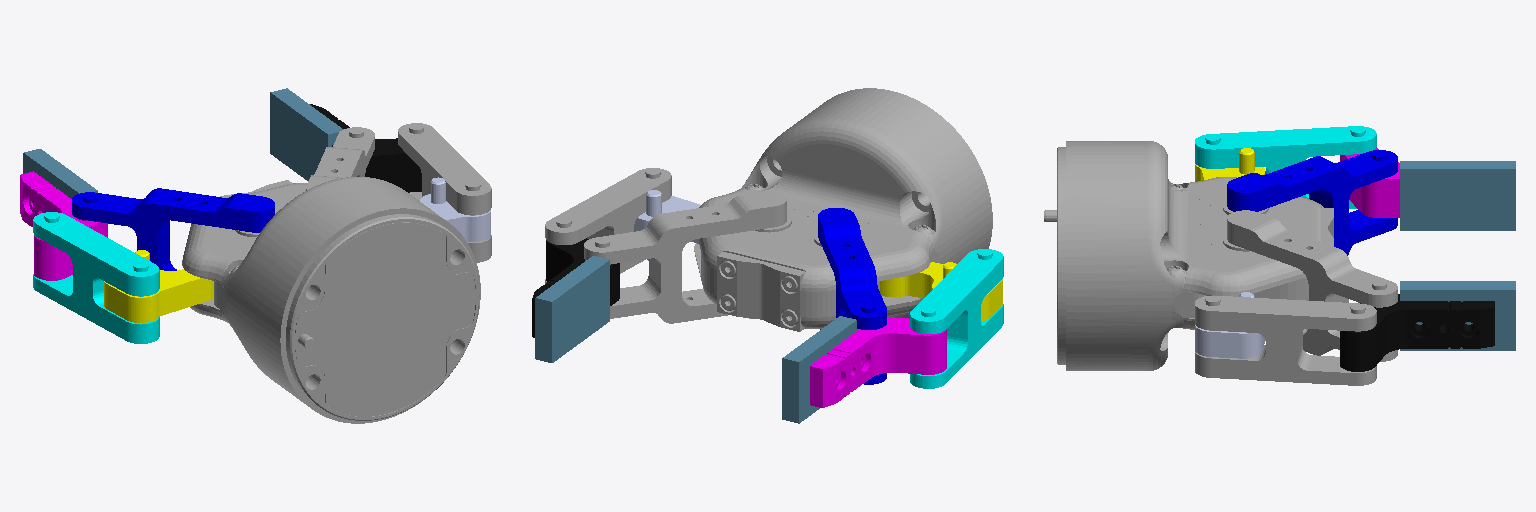
URDF robot description (ur5_robotiq_85):
<?xml version="1.0" ?>
<!-- =================================================================================== -->
<!-- |    This document was autogenerated by xacro from sisbot.xacro                   | -->
<!-- |    EDITING THIS FILE BY HAND IS NOT RECOMMENDED                                 | -->
<!-- =================================================================================== -->
<robot name="ur5_robotiq_85" xmlns:xacro="http://ros.org/wiki/xacro">
  <!--################################################
  ########              arm                    #######
  ####################################################-->

  <link name="base_link">
    <visual>
      <geometry>
        <mesh filename="../meshes/ur5/visual/base.obj"/>
      </geometry>
      <material name="LightGrey">
        <color rgba="0.7 0.7 0.7 1.0"/>
      </material>
    </visual>
    <collision>
      <geometry>
        <mesh filename="../meshes/ur5/collision/base.stl"/>
      </geometry>
    </collision>
    <inertial>
      <mass value="4.0"/>
      <origin rpy="0 0 0" xyz="0.0 0.0 0.0"/>
      <inertia ixx="0.00443333156" ixy="0.0" ixz="0.0" iyy="0.00443333156" iyz="0.0" izz="0.0072"/>
    </inertial>
  </link>

  <joint name="shoulder_pan_joint" type="revolute">
    <parent link="base_link"/>
    <child link="shoulder_link"/>
    <origin rpy="0.0 0.0 0.0" xyz="0.0 0.0 0.089159"/>
    <axis xyz="0 0 1"/>
    <limit effort="150.0" lower="-3.14159265359" upper="3.14159265359" velocity="3.15"/>
    <dynamics damping="0.0" friction="0.0"/>
  </joint>
  <link name="shoulder_link">
    <visual>
      <geometry>
        <mesh filename="../meshes/ur5/visual/shoulder.obj"/>
      </geometry>
      <material name="UR-Blue">
        <color rgba="0.376 0.576 0.674 1.0"/>
      </material>
    </visual>
    <collision>
      <geometry>
        <mesh filename="../meshes/ur5/collision/shoulder.stl"/>
      </geometry>
    </collision>
    <inertial>
      <mass value="3.7"/>
      <origin rpy="0 0 0" xyz="0.0 0.0 0.0"/>
      <inertia ixx="0.010267495893" ixy="0.0" ixz="0.0" iyy="0.010267495893" iyz="0.0" izz="0.00666"/>
    </inertial>
  </link>
  <joint name="shoulder_lift_joint" type="revolute">
    <parent link="shoulder_link"/>
    <child link="upper_arm_link"/>
    <origin rpy="0.0 1.57079632679 0.0" xyz="0.0 0.13585 0.0"/>
    <axis xyz="0 1 0"/>
    <limit effort="150.0" lower="-3.14159265359" upper="3.14159265359" velocity="3.15"/>
    <dynamics damping="0.0" friction="0.0"/>
  </joint>
  <link name="upper_arm_link">
    <visual>
      <geometry>
        <mesh filename="../meshes/ur5/visual/upperarm.obj"/>
      </geometry>
      <material name="LightGrey">
        <color rgba="0.7 0.7 0.7 1.0"/>
      </material>
    </visual>
    <collision>
      <geometry>
        <mesh filename="../meshes/ur5/collision/upperarm.stl"/>
      </geometry>
    </collision>
    <inertial>
      <mass value="8.393"/>
      <origin rpy="0 0 0" xyz="0.0 0.0 0.28"/>
      <inertia ixx="0.22689067591" ixy="0.0" ixz="0.0" iyy="0.22689067591" iyz="0.0" izz="0.0151074"/>
    </inertial>
  </link>
  <joint name="elbow_joint" type="revolute">
    <parent link="upper_arm_link"/>
    <child link="forearm_link"/>
    <origin rpy="0.0 0.0 0.0" xyz="0.0 -0.1197 0.425"/>
    <axis xyz="0 1 0"/>
    <limit effort="150.0" lower="-3.14159265359" upper="3.14159265359" velocity="3.15"/>
    <dynamics damping="0.0" friction="0.0"/>
  </joint>
  <link name="forearm_link">
    <visual>
      <geometry>
        <mesh filename="../meshes/ur5/visual/forearm.obj"/>
      </geometry>
      <material name="LightGrey">
        <color rgba="0.7 0.7 0.7 1.0"/>
      </material>
    </visual>
    <collision>
      <geometry>
        <mesh filename="../meshes/ur5/collision/forearm.stl"/>
      </geometry>
    </collision>
    <inertial>
      <mass value="2.275"/>
      <origin rpy="0 0 0" xyz="0.0 0.0 0.25"/>
      <inertia ixx="0.049443313556" ixy="0.0" ixz="0.0" iyy="0.049443313556" iyz="0.0" izz="0.004095"/>
    </inertial>
  </link>
  <joint name="wrist_1_joint" type="revolute">
    <parent link="forearm_link"/>
    <child link="wrist_1_link"/>
    <origin rpy="0.0 1.57079632679 0.0" xyz="0.0 0.0 0.39225"/>
    <axis xyz="0 1 0"/>
    <limit effort="28.0" lower="-3.14159265359" upper="3.14159265359" velocity="3.2"/>
    <dynamics damping="0.0" friction="0.0"/>
  </joint>
  <link name="wrist_1_link">
    <visual>
      <geometry>
        <mesh filename="../meshes/ur5/visual/wrist1.obj"/>
      </geometry>
      <material name="UR-Blue">
        <color rgba="0.376 0.576 0.674 1.0"/>
      </material>
    </visual>
    <collision>
      <geometry>
        <mesh filename="../meshes/ur5/collision/wrist1.stl"/>
      </geometry>
    </collision>
    <inertial>
      <mass value="1.219"/>
      <origin rpy="0 0 0" xyz="0.0 0.0 0.0"/>
      <inertia ixx="0.111172755531" ixy="0.0" ixz="0.0" iyy="0.111172755531" iyz="0.0" izz="0.21942"/>
    </inertial>
  </link>
  <joint name="wrist_2_joint" type="revolute">
    <parent link="wrist_1_link"/>
    <child link="wrist_2_link"/>
    <origin rpy="0.0 0.0 0.0" xyz="0.0 0.093 0.0"/>
    <axis xyz="0 0 1"/>
    <limit effort="28.0" lower="-3.14159265359" upper="3.14159265359" velocity="3.2"/>
    <dynamics damping="0.0" friction="0.0"/>
  </joint>
  <link name="wrist_2_link">
    <visual>
      <geometry>
        <mesh filename="../meshes/ur5/visual/wrist2.obj"/>
      </geometry>
      <material name="DarkGray">
        <color rgba="0.5 0.5 0.5 1.0"/>
      </material>
    </visual>
    <collision>
      <geometry>
        <mesh filename="../meshes/ur5/collision/wrist2.stl"/>
      </geometry>
    </collision>
    <inertial>
      <mass value="1.219"/>
      <origin rpy="0 0 0" xyz="0.0 0.0 0.0"/>
      <inertia ixx="0.111172755531" ixy="0.0" ixz="0.0" iyy="0.111172755531" iyz="0.0" izz="0.21942"/>
    </inertial>
  </link>
  <joint name="wrist_3_joint" type="revolute">
    <parent link="wrist_2_link"/>
    <child link="wrist_3_link"/>
    <origin rpy="0.0 0.0 0.0" xyz="0.0 0.0 0.09465"/>
    <axis xyz="0 1 0"/>
    <limit effort="28.0" lower="-3.14159265359" upper="3.14159265359" velocity="3.2"/>
    <dynamics damping="0.0" friction="0.0"/>
  </joint>
  <link name="wrist_3_link">
    <visual>
      <geometry>
        <mesh filename="../meshes/ur5/visual/wrist3.obj"/>
      </geometry>
      <material name="LightGrey">
        <color rgba="0.7 0.7 0.7 1.0"/>
      </material>
    </visual>
    <collision>
      <geometry>
        <mesh filename="../meshes/ur5/collision/wrist3.stl"/>
      </geometry>
    </collision>
    <inertial>
      <mass value="0.1879"/>
      <origin rpy="0 0 0" xyz="0.0 0.0 0.0"/>
      <inertia ixx="0.0171364731454" ixy="0.0" ixz="0.0" iyy="0.0171364731454" iyz="0.0" izz="0.033822"/>
    </inertial>
  </link>
  <joint name="ee_fixed_joint" type="fixed">
    <parent link="wrist_3_link"/>
    <child link="ee_link"/>
    <origin rpy="0.0 0.0 1.57079632679" xyz="0.0 0.0823 0.0"/>
  </joint>
  <link name="ee_link">
    <collision>
      <geometry>
        <box size="0.01 0.01 0.01"/>
      </geometry>
      <origin rpy="0 0 0" xyz="-0.01 0 0"/>
    </collision>
  </link>

  <!--################################################
  ########              gripper                  #####
  ####################################################-->

  <link name="robotiq_arg2f_base_link">
    <inertial>
      <origin rpy="0 0 0" xyz="8.625E-08 -4.6583E-06 0.03145"/>
      <mass value="0.22652"/>
      <inertia ixx="0.00020005" ixy="-4.2442E-10" ixz="-2.9069E-10" iyy="0.00017832" iyz="-3.4402E-08" izz="0.00013478"/>
    </inertial>
    <visual>
      <origin rpy="0 0 0" xyz="0 0 0"/>
      <geometry>
        <mesh filename="../meshes/robotiq_85/visual/robotiq_arg2f_85_base_link.obj"/>
      </geometry>
      <material name="LightGrey">
        <color rgba="0.7 0.7 0.7 1.0"/>
      </material>
    </visual>
    <collision>
      <origin rpy="0 0 0" xyz="0 0 0"/>
      <geometry>
        <mesh filename="../meshes/robotiq_85/collision/robotiq_arg2f_base_link.stl"/>
      </geometry>
    </collision>
  </link>
  <joint name="finger_joint" type="revolute">
    <origin rpy="0 0 3.14159265359" xyz="0 -0.0306011 0.054904"/>
    <parent link="robotiq_arg2f_base_link"/>
    <child link="left_outer_knuckle"/>
    <axis xyz="1 0 0"/>
    <limit effort="1000" lower="0" upper="0.8" velocity="2.0"/>
  </joint>
  <link name="left_outer_knuckle">
    <inertial>
        <origin xyz="-0.000200000000003065 0.0199435877845359 0.0292245259211331" rpy="0 0 0" />
        <mass value="0.00853198276973456" />
        <inertia ixx="2.89328108496468E-06" ixy="-1.57935047237397E-19" ixz="-1.93980378593255E-19" iyy="1.86719750325683E-06" iyz="-1.21858577871576E-06" izz="1.21905238907251E-06" />
        </inertial>
    <visual>
      <origin rpy="0 0 0" xyz="0 0 0"/>
      <geometry>
        <mesh filename="../meshes/robotiq_85/visual/robotiq_arg2f_85_outer_knuckle.obj"/>
      </geometry>
      <material name="">
        <color rgba="1 1 0 1"/>
      </material>
    </visual>
    <collision>
      <origin rpy="0 0 0" xyz="0 0 0"/>
      <geometry>
        <mesh filename="../meshes/robotiq_85/collision/robotiq_arg2f_85_outer_knuckle.obj"/>
      </geometry>
    </collision>
  </link>
  <joint name="left_outer_finger_joint" type="fixed">
    <origin rpy="0 0 0" xyz="0 0.0315 -0.0041"/>
    <parent link="left_outer_knuckle"/>
    <child link="left_outer_finger"/>
    <axis xyz="1 0 0"/>
  </joint>
  <link name="left_outer_finger">
    <inertial>
        <origin xyz="0.00030115855001899 0.0373907951953854 -0.0208027427000385" rpy="0 0 0" />
        <mass value="0.022614240507152" />
        <inertia ixx="1.52518312458174E-05" ixy="9.76583423954399E-10" ixz="-5.43838577022588E-10" iyy="6.17694243867776E-06" iyz="6.78636130740228E-06" izz="1.16494917907219E-05" />
        </inertial>
    <visual>
      <origin rpy="0 0 0" xyz="0 0 0"/>
      <geometry>
        <mesh filename="../meshes/robotiq_85/visual/robotiq_arg2f_85_outer_finger.obj"/>
      </geometry>
      <material name="LightGrey">
        <color rgba="0 1 1 1.0"/>
      </material>
    </visual>
    <collision>
      <origin rpy="0 0 0" xyz="0 0 0"/>
      <geometry>
        <mesh filename="../meshes/robotiq_85/collision/robotiq_arg2f_85_outer_finger.obj"/>
      </geometry>
    </collision>
  </link>
  <joint name="left_inner_finger_joint" type="revolute">
    <origin rpy="0 0 0" xyz="0 0.0061 0.0471"/>
    <parent link="left_outer_finger"/>
    <child link="left_inner_finger"/>
    <axis xyz="1 0 0"/>
    <limit effort="1000" lower="-0.8757" upper="0" velocity="2.0"/>
    <mimic joint="finger_joint" multiplier="-1" offset="0"/>
  </joint>
  <link name="left_inner_finger">
    <inertial>
        <origin xyz="0.000299999999999317 0.0160078233491243 -0.0136945669206257" rpy="0 0 0" />
        <mass value="0.0104003125914103" />
        <inertia ixx="2.71909453810972E-06" ixy="1.35402465472579E-21" ixz="-7.1817349065269E-22" iyy="7.69100314106116E-07" iyz="6.74715432769696E-07" izz="2.30315190420171E-06" />
        </inertial>
    <visual>
      <origin rpy="0 0 0" xyz="0 0 0"/>
      <geometry>
        <mesh filename="../meshes/robotiq_85/visual/robotiq_arg2f_85_inner_finger.obj"/>
      </geometry>
      <material name="LightGrey">
        <color rgba="1 0 1 1.0"/>
      </material>
    </visual>
    <collision>
      <origin rpy="0 0 0" xyz="0 0 0"/>
      <geometry>
        <mesh filename="../meshes/robotiq_85/collision/robotiq_arg2f_85_inner_finger.obj"/>
      </geometry>
    </collision>
  </link>
  <joint name="left_inner_finger_pad_joint" type="fixed">
    <origin rpy="0 0 0" xyz="0 -0.0220203446692936 0.03242"/>
    <parent link="left_inner_finger"/>
    <child link="left_inner_finger_pad"/>
    <axis xyz="0 0 1"/>
  </joint>
  <link name="left_inner_finger_pad">
    <inertial>
      <mass value="1."/>
      <inertia ixx="1E-10" ixy="1E-10" ixz="1E-10" iyy="1E-10" iyz="1E-10" izz="1E-10"/>
    </inertial>
    <visual>
      <origin rpy="0 0 0" xyz="0 0 0"/>
      <geometry>
        <box size="0.022 0.00635 0.0375"/>
      </geometry>
      <material name="UR-Blue">
        <color rgba="0.376 0.576 0.674 1.0"/>
      </material>
    </visual>
    <collision>
      <origin rpy="0 0 0" xyz="0 0 0"/>
      <geometry>
        <box size="0.022 0.00635 0.0375"/>
      </geometry>
      <material name="">
        <color rgba="0.9 0.0 0.0 1"/>
      </material>
    </collision>
  </link>
  <joint name="left_inner_knuckle_joint" type="revolute">
    <!-- <origin xyz="0 ${reflect * -0.0127} 0.06142" rpy="${pi / 2 + .725} 0 ${(reflect - 1) * pi / 2}" /> -->
    <origin rpy="0 0 3.14159265359" xyz="0 -0.0127 0.06142"/>
    <parent link="robotiq_arg2f_base_link"/>
    <child link="left_inner_knuckle"/>
    <axis xyz="1 0 0"/>
    <limit effort="1000" lower="0" upper="0.8757" velocity="2.0"/>
    <mimic joint="finger_joint" multiplier="1" offset="0"/>
  </joint>
  <link name="left_inner_knuckle">
    <inertial>
        <origin xyz="0.000123011831763771 0.0507850843201817 0.00103968640075166" rpy="0 0 0" />
       <mass value="0.0271177346495152" />
        <inertia ixx="2.61910379223783E-05" ixy="-2.43616858946494E-07" ixz="-6.37789906117123E-09" iyy="2.8270243746167E-06" iyz="-5.37200748039765E-07" izz="2.83695868220296E-05" />
        </inertial>
    <visual>
      <origin rpy="0 0 0" xyz="0 0 0"/>
      <geometry>
        <mesh filename="../meshes/robotiq_85/visual/robotiq_arg2f_85_inner_knuckle.obj"/>
      </geometry>
      <material name="LightGrey">
        <color rgba="0 0 1 1.0"/>
      </material>
    </visual>
    <collision>
      <origin rpy="0 0 0" xyz="0 0 0"/>
      <geometry>
        <mesh filename="../meshes/robotiq_85/collision/robotiq_arg2f_85_inner_knuckle.obj"/>
      </geometry>
    </collision>
  </link>
  <joint name="right_outer_knuckle_joint" type="revolute">
    <origin rpy="0 0 0" xyz="0 0.0306011 0.054904"/>
    <parent link="robotiq_arg2f_base_link"/>
    <child link="right_outer_knuckle"/>
    <axis xyz="1 0 0"/>
    <limit effort="1000" lower="0" upper="0.81" velocity="2.0"/>
    <mimic joint="finger_joint" multiplier="1" offset="0"/>
  </joint>
  <link name="right_outer_knuckle">
    <inertial>
        <origin xyz="-0.000200000000003065 0.0199435877845359 0.0292245259211331" rpy="0 0 0" />
        <mass value="0.00853198276973456" />
        <inertia ixx="2.89328108496468E-06" ixy="-1.57935047237397E-19" ixz="-1.93980378593255E-19" iyy="1.86719750325683E-06" iyz="-1.21858577871576E-06" izz="1.21905238907251E-06" />
        </inertial>
    <visual>
      <origin rpy="0 0 0" xyz="0 0 0"/>
      <geometry>
        <mesh filename="../meshes/robotiq_85/visual/robotiq_arg2f_85_outer_knuckle.obj"/>
      </geometry>
      <material name="">
        <color rgba="0.792156862745098 0.819607843137255 0.933333333333333 1"/>
      </material>
    </visual>
    <collision>
      <origin rpy="0 0 0" xyz="0 0 0"/>
      <geometry>
        <mesh filename="../meshes/robotiq_85/collision/robotiq_arg2f_85_outer_knuckle.obj"/>
      </geometry>
    </collision>
  </link>
  <joint name="right_outer_finger_joint" type="fixed">
    <origin rpy="0 0 0" xyz="0 0.0315 -0.0041"/>
    <parent link="right_outer_knuckle"/>
    <child link="right_outer_finger"/>
    <axis xyz="1 0 0"/>
  </joint>
  <link name="right_outer_finger">
    <inertial>
        <origin xyz="0.00030115855001899 0.0373907951953854 -0.0208027427000385" rpy="0 0 0" />
        <mass value="0.022614240507152" />
        <inertia ixx="1.52518312458174E-05" ixy="9.76583423954399E-10" ixz="-5.43838577022588E-10" iyy="6.17694243867776E-06" iyz="6.78636130740228E-06" izz="1.16494917907219E-05" />
        </inertial>
    <visual>
      <origin rpy="0 0 0" xyz="0 0 0"/>
      <geometry>
        <mesh filename="../meshes/robotiq_85/visual/robotiq_arg2f_85_outer_finger.obj"/>
      </geometry>
      <material name="LightGrey">
        <color rgba="0.7 0.7 0.7 1.0"/>
      </material>
    </visual>
    <collision>
      <origin rpy="0 0 0" xyz="0 0 0"/>
      <geometry>
        <mesh filename="../meshes/robotiq_85/collision/robotiq_arg2f_85_outer_finger.obj"/>
      </geometry>
    </collision>
  </link>
  <joint name="right_inner_finger_joint" type="revolute">
    <origin rpy="0 0 0" xyz="0 0.0061 0.0471"/>
    <parent link="right_outer_finger"/>
    <child link="right_inner_finger"/>
    <axis xyz="1 0 0"/>
    <limit effort="1000" lower="-0.8757" upper="0" velocity="2.0"/>
    <mimic joint="finger_joint" multiplier="-1" offset="0"/>
  </joint>
  <link name="right_inner_finger">
    <inertial>
        <origin xyz="0.000299999999999317 0.0160078233491243 -0.0136945669206257" rpy="0 0 0" />
        <mass value="0.0104003125914103" />
        <inertia ixx="2.71909453810972E-06" ixy="1.35402465472579E-21" ixz="-7.1817349065269E-22" iyy="7.69100314106116E-07" iyz="6.74715432769696E-07" izz="2.30315190420171E-06" />
        </inertial>
    <visual>
      <origin rpy="0 0 0" xyz="0 0 0"/>
      <geometry>
        <mesh filename="../meshes/robotiq_85/visual/robotiq_arg2f_85_inner_finger.obj"/>
      </geometry>
      <material name="">
        <color rgba="0.1 0.1 0.1 1"/>
      </material>
    </visual>
    <collision>
      <origin rpy="0 0 0" xyz="0 0 0"/>
      <geometry>
        <mesh filename="../meshes/robotiq_85/collision/robotiq_arg2f_85_inner_finger.obj"/>
      </geometry>
    </collision>
  </link>
  <joint name="right_inner_finger_pad_joint" type="fixed">
    <origin rpy="0 0 0" xyz="0 -0.0220203446692936 0.03242"/>
    <parent link="right_inner_finger"/>
    <child link="right_inner_finger_pad"/>
    <axis xyz="0 0 1"/>
  </joint>
  <link name="right_inner_finger_pad">
    <inertial>
      <mass value="1"/>
      <inertia ixx="1E-10" ixy="1E-10" ixz="1E-10" iyy="1E-10" iyz="1E-10" izz="1E-10"/>
    </inertial>
    <visual>
      <origin rpy="0 0 0" xyz="0 0 0"/>
      <geometry>
        <box size="0.022 0.00635 0.0375"/>
      </geometry>
      <material name="UR-Blue">
        <color rgba="0.376 0.576 0.674 1.0"/>
      </material>
    </visual>
    <collision>
      <origin rpy="0 0 0" xyz="0 0 0"/>
      <geometry>
        <box size="0.022 0.00635 0.0375"/>
      </geometry>
      <material name="LightGrey">
        <color rgba="0.7 0.7 0.7 1.0"/>
      </material>
    </collision>
  </link>
  <joint name="right_inner_knuckle_joint" type="revolute">
    <!-- <origin xyz="0 ${reflect * -0.0127} 0.06142" rpy="${pi / 2 + .725} 0 ${(reflect - 1) * pi / 2}" /> -->
    <origin rpy="0 0 0.0" xyz="0 0.0127 0.06142"/>
    <parent link="robotiq_arg2f_base_link"/>
    <child link="right_inner_knuckle"/>
    <axis xyz="1 0 0"/>
    <limit effort="1000" lower="0" upper="0.8757" velocity="2.0"/>
    <mimic joint="finger_joint" multiplier="1" offset="0"/>
  </joint>
  <link name="right_inner_knuckle">
    <inertial>
        <origin xyz="0.000123011831763771 0.0507850843201817 0.00103968640075166" rpy="0 0 0" />
       <mass value="0.0271177346495152" />
        <inertia ixx="2.61910379223783E-05" ixy="-2.43616858946494E-07" ixz="-6.37789906117123E-09" iyy="2.8270243746167E-06" iyz="-5.37200748039765E-07" izz="2.83695868220296E-05" />
        </inertial>
    <visual>
      <origin rpy="0 0 0" xyz="0 0 0"/>
      <geometry>
        <mesh filename="../meshes/robotiq_85/visual/robotiq_arg2f_85_inner_knuckle.obj"/>
      </geometry>
      <material name="LightGrey">
        <color rgba="0.7 0.7 0.7 1.0"/>
      </material>
    </visual>
    <collision>
      <origin rpy="0 0 0" xyz="0 0 0"/>
      <geometry>
        <mesh filename="../meshes/robotiq_85/collision/robotiq_arg2f_85_inner_knuckle.obj"/>
      </geometry>
    </collision>
  </link>

<!--################################################
  ########          connect model                #####
  ####################################################-->

  <link name="world"/>
  <!-- connect gripper to arm -->
  <joint name="robotiq_85_base_joint" type="fixed">
    <parent link="ee_link"/>
    <child link="robotiq_arg2f_base_link"/>
    <origin rpy="0 1.57079632679 0" xyz="0 0 0"/>
  </joint>

<!--  <joint name="arm_gripper_joint" type="fixed">-->
<!--    <parent link="ee_link"/>-->
<!--    <child link="robotiq_140_robotiq_arg2f_base_link"/>-->
<!--    <origin rpy="-1.57 1.57 -1.57" xyz="0.0 0.0 0.0"/>-->
<!--  </joint>-->

  <!-- connect arm to world -->
  <joint name="world_arm_joint" type="fixed">
    <parent link="world"/>
    <child link="base_link"/>
    <origin rpy="0.0 0.0 0" xyz="0 0 0"/>
  </joint>


</robot>

--- Facts derived from the render (not from the file) ---
Views: 3 orthographic renders of the robot side by side, from view 1: azimuth 30°, elevation 25°; view 2: azimuth 150°, elevation 25°; view 3: azimuth 270°, elevation 25°.
Robot: ur5_robotiq_85 — 20 links, 19 joints (12 revolute, 7 fixed); root link world; default pose: every joint at zero.
Visible links, largest first — view 1: robotiq_arg2f_base_link, left_outer_finger, left_inner_knuckle, right_outer_finger, right_inner_finger_pad, left_outer_knuckle, left_inner_finger, right_inner_knuckle, right_inner_finger, right_outer_knuckle, left_inner_finger_pad; view 2: robotiq_arg2f_base_link, right_inner_knuckle, left_outer_finger, left_inner_finger, right_inner_finger_pad, left_inner_knuckle, right_outer_finger, left_inner_finger_pad, left_outer_knuckle, right_inner_finger, right_outer_knuckle; view 3: robotiq_arg2f_base_link, right_outer_finger, left_inner_finger_pad, left_inner_knuckle, right_inner_knuckle, right_inner_finger, left_outer_finger, right_inner_finger_pad, right_outer_knuckle, left_inner_finger, left_outer_knuckle.
Boxes of the visible links, x1,y1,x2,y2 form: robotiq_arg2f_base_link: (182,177,480,423); left_outer_finger: (33,212,159,343); left_inner_knuckle: (72,188,274,270); right_outer_finger: (398,123,491,262); right_inner_finger_pad: (270,88,343,180); left_outer_knuckle: (104,250,213,322); left_inner_finger: (20,171,107,280); right_inner_knuckle: (306,127,374,190); right_inner_finger: (310,104,421,192); right_outer_knuckle: (420,177,490,241); left_inner_finger_pad: (23,149,97,198); robotiq_arg2f_base_link: (694,88,992,331); right_inner_knuckle: (584,191,786,323); left_outer_finger: (910,249,1003,388); left_inner_finger: (810,317,946,407); right_inner_finger_pad: (535,256,609,362); left_inner_knuckle: (818,208,886,384); right_outer_finger: (545,168,671,283); left_inner_finger_pad: (782,316,856,423); left_outer_knuckle: (880,262,1002,321); right_inner_finger: (532,238,619,337); right_outer_knuckle: (634,190,700,260); robotiq_arg2f_base_link: (1044,141,1333,370); right_outer_finger: (1195,295,1376,385); left_inner_finger_pad: (1400,161,1515,230); left_inner_knuckle: (1227,150,1397,255); right_inner_knuckle: (1227,210,1397,361); right_inner_finger: (1340,294,1494,371); left_outer_finger: (1195,126,1376,208); right_inner_finger_pad: (1400,281,1515,350); right_outer_knuckle: (1195,292,1264,358); left_inner_finger: (1340,147,1399,217); left_outer_knuckle: (1195,148,1264,181).
Bounding box of the posed robot: 0.1484 × 0.1531 × 0.075 m (x, y, z).
Meshes: 12 distinct files referenced, 9 mesh visuals loaded (5 OBJ); not drawn: 7 (reference not matched to a file when rendering).
